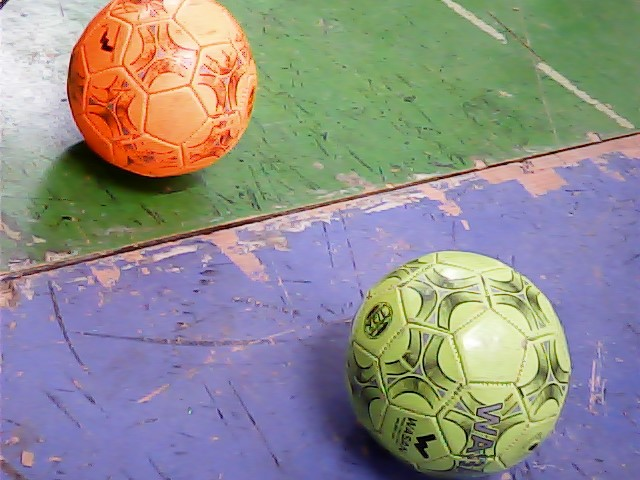Green_ball: (342, 245, 583, 475)
Orange_ball: (65, 3, 268, 181)
